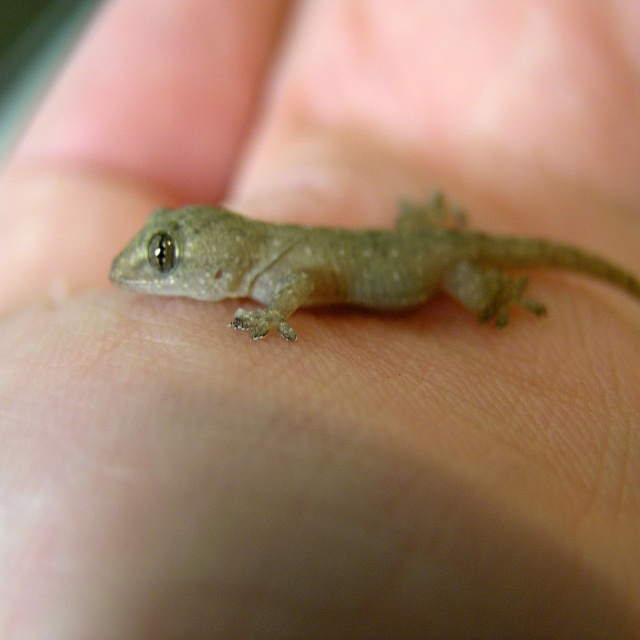Lizard: (111, 193, 638, 345)
